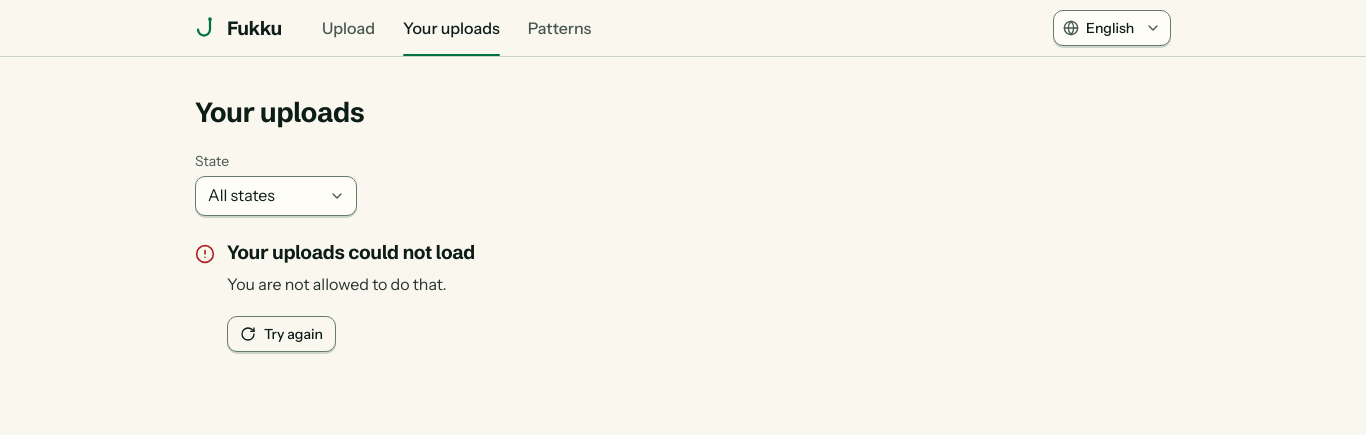
job list › a failed request says so and can be retried
Expected: the message shows "You are not allowed to do that.", [227,274,447,294]
Click the button "Try again": (281, 334) [227,316,336,352]
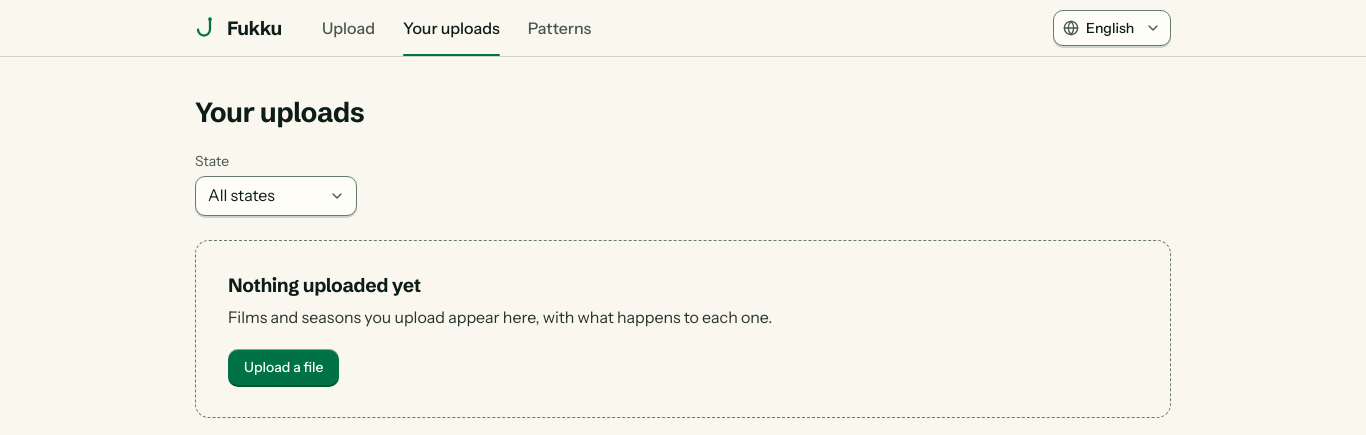
Result: the heading "Nothing uploaded yet" is shown at [228,273,421,297]
